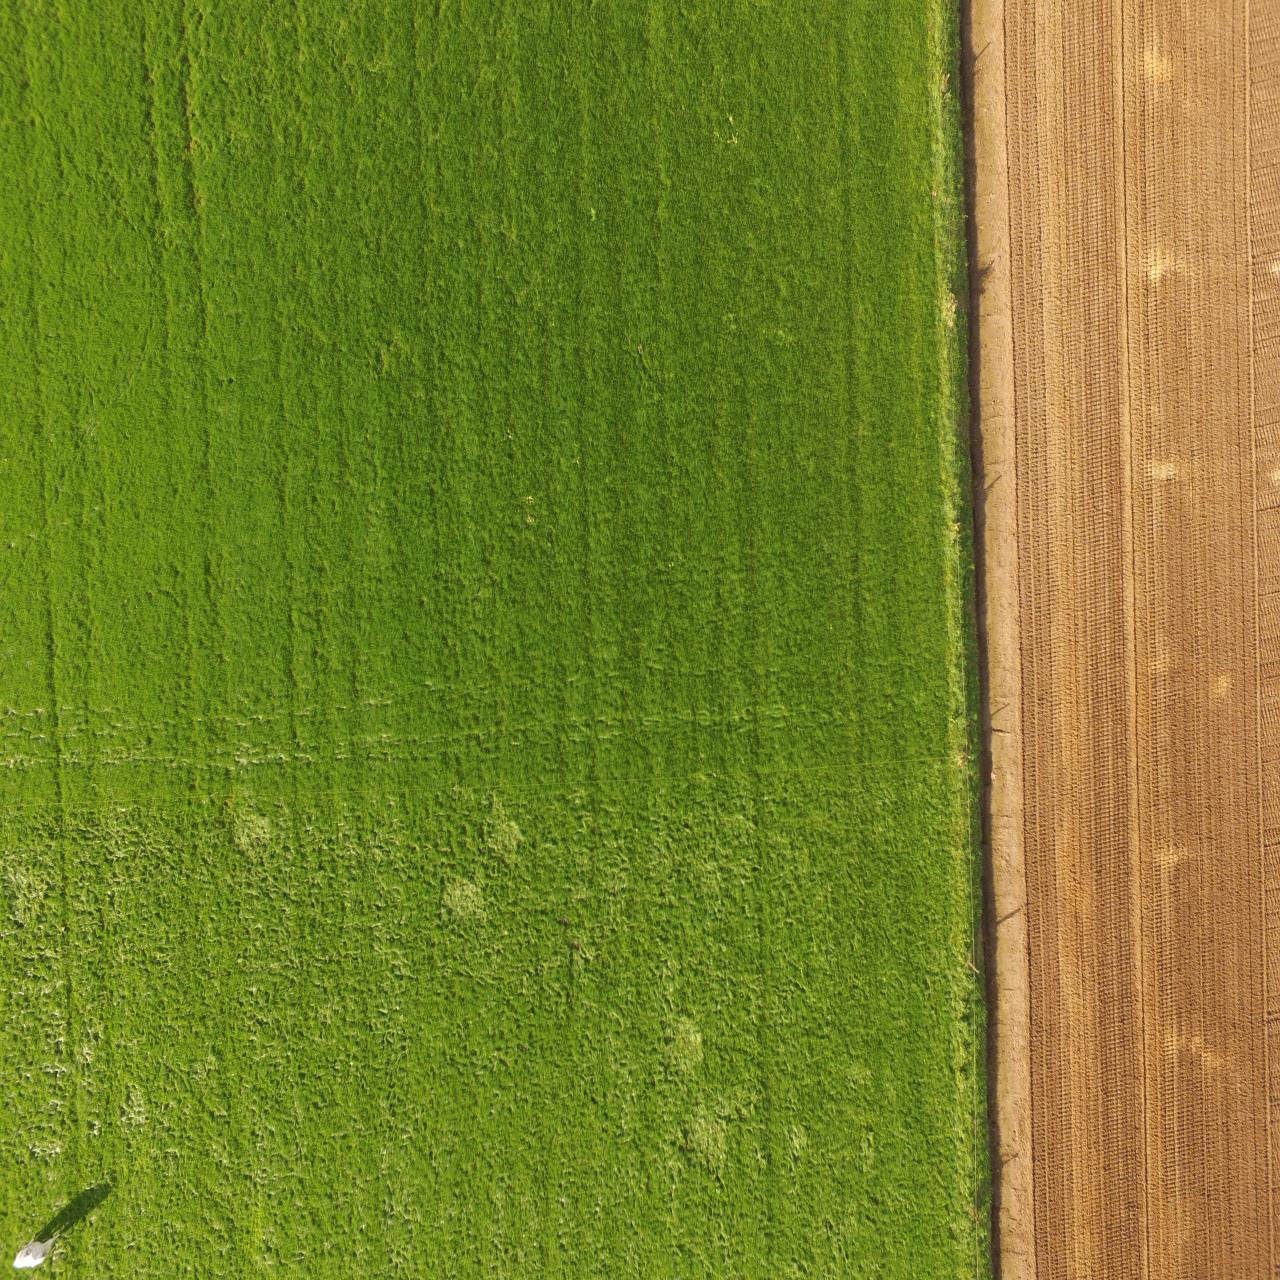cow: (12, 1231, 62, 1268)
